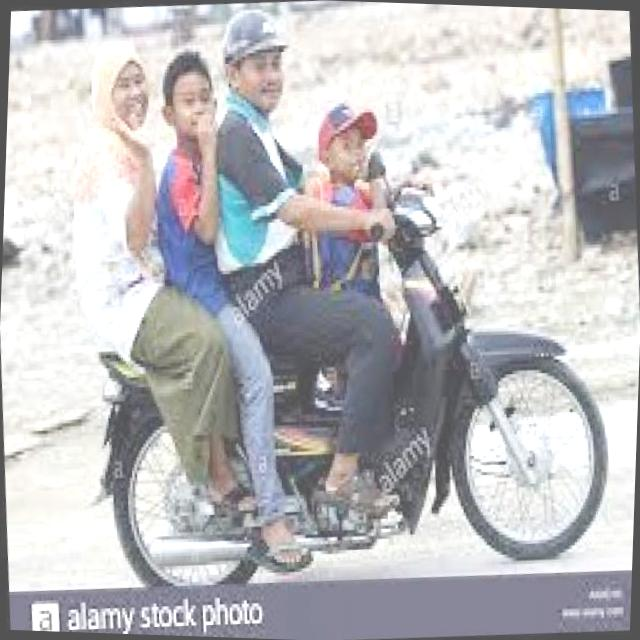motorcycle: (87, 170, 614, 602)
person: (196, 7, 292, 400), (59, 33, 157, 416), (144, 45, 231, 400), (300, 94, 398, 375)
rider_region: (50, 5, 620, 628)
